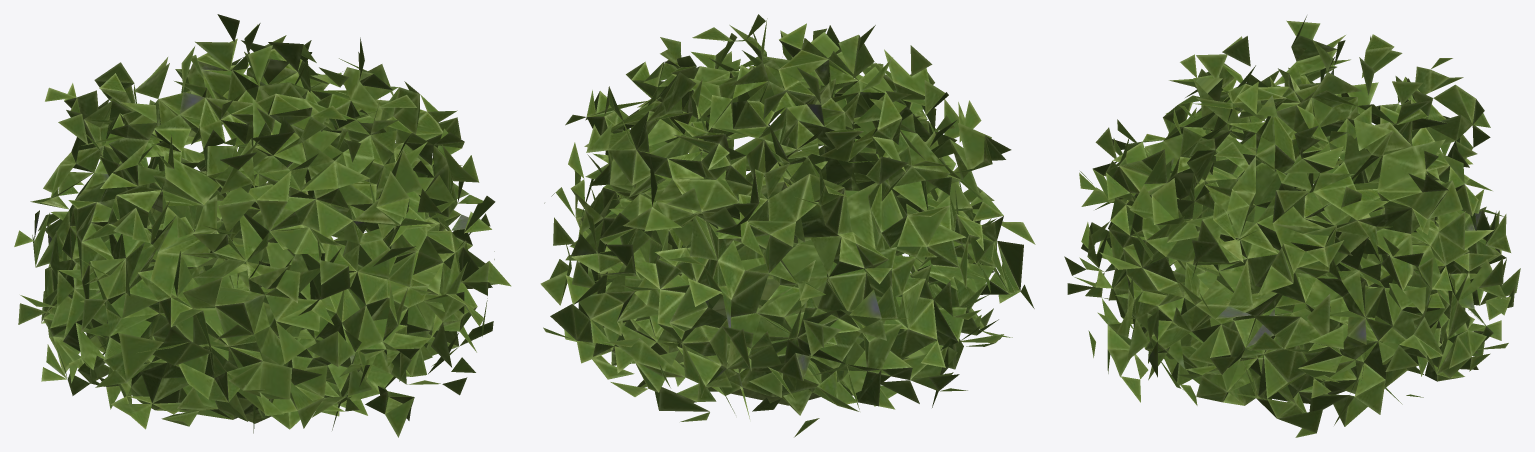
Rendered from bush.glb.
The picture shows the model from 3 angles, left to right: view 1: azimuth 30°, elevation 25°; view 2: azimuth 150°, elevation 25°; view 3: azimuth 270°, elevation 25°; orthographic projection. The views are drawn at different scales.
Visible parts, largest first — view 1: Mesh_0; view 2: Mesh_0; view 3: Mesh_0.
Part boxes in pixels (box(x1,y1,x2,y2)): Mesh_0: box(14, 14, 511, 437); Mesh_0: box(540, 14, 1035, 437); Mesh_0: box(1064, 16, 1520, 437).
Bounding box in the file's own units: 1.74 × 1.49 × 1.69.
Materials: 1 (1 with a texture image).
